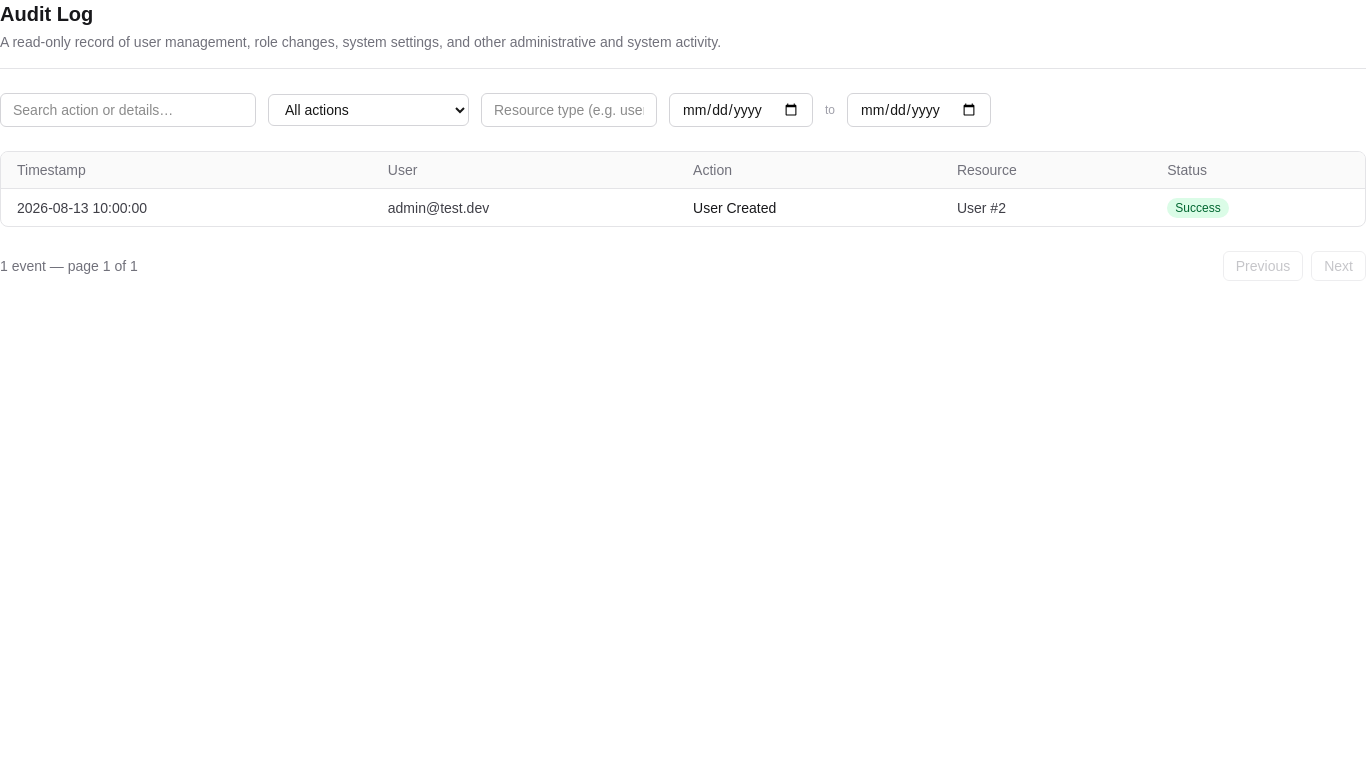
Test: AuditLogPage › opens an event detail dialog on row click
Click the text "admin@test.dev" at (82, 208), box [1, 188, 1365, 226]
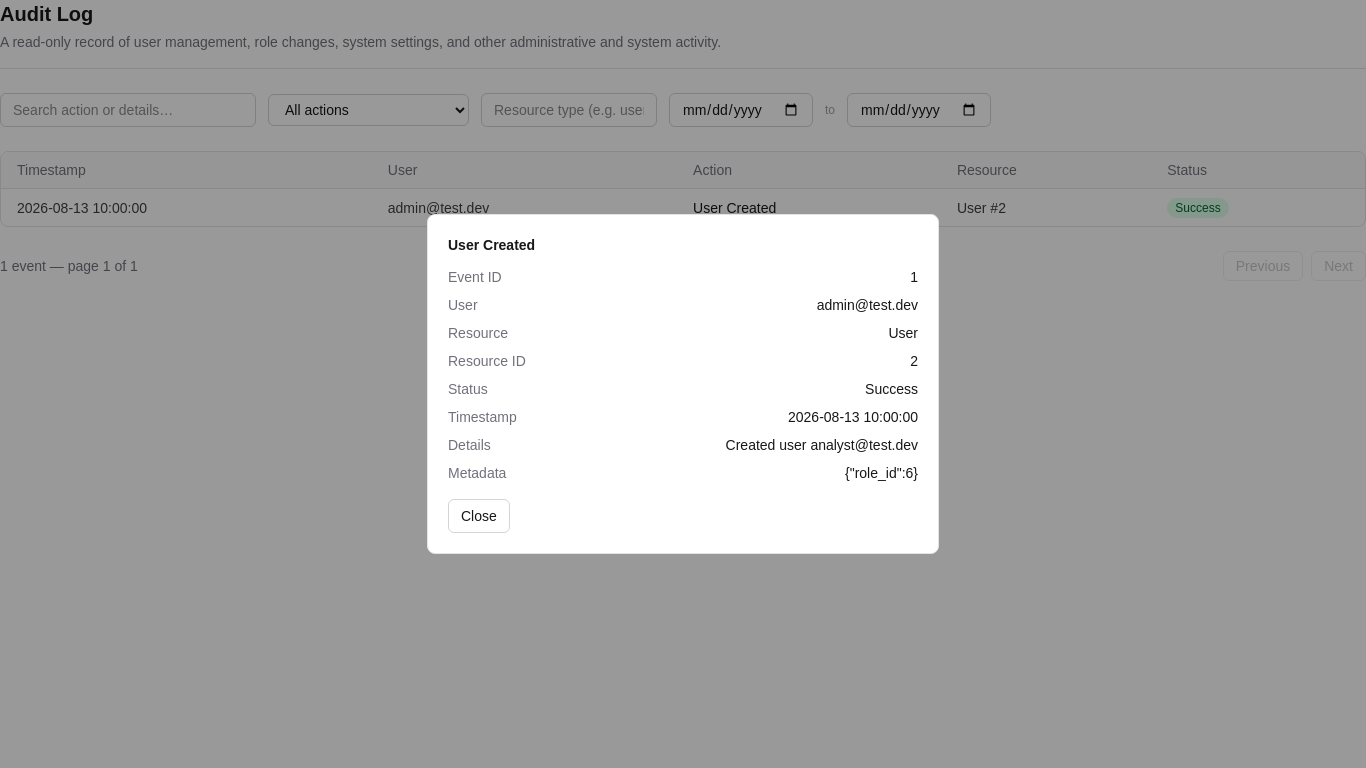
Expected: the text "Event ID" is shown, [448, 267, 502, 287]
Expected: the text "Created user analyst@test.dev" is shown, [726, 435, 918, 455]
